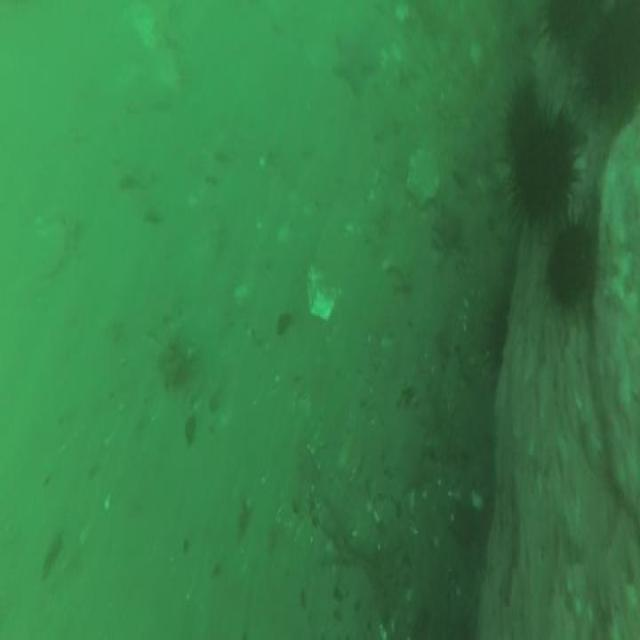echinus: (516, 112, 574, 231), (580, 1, 638, 106), (546, 223, 588, 310), (544, 2, 589, 41), (507, 84, 534, 140)
starfish: (333, 23, 375, 88), (434, 204, 468, 253)
